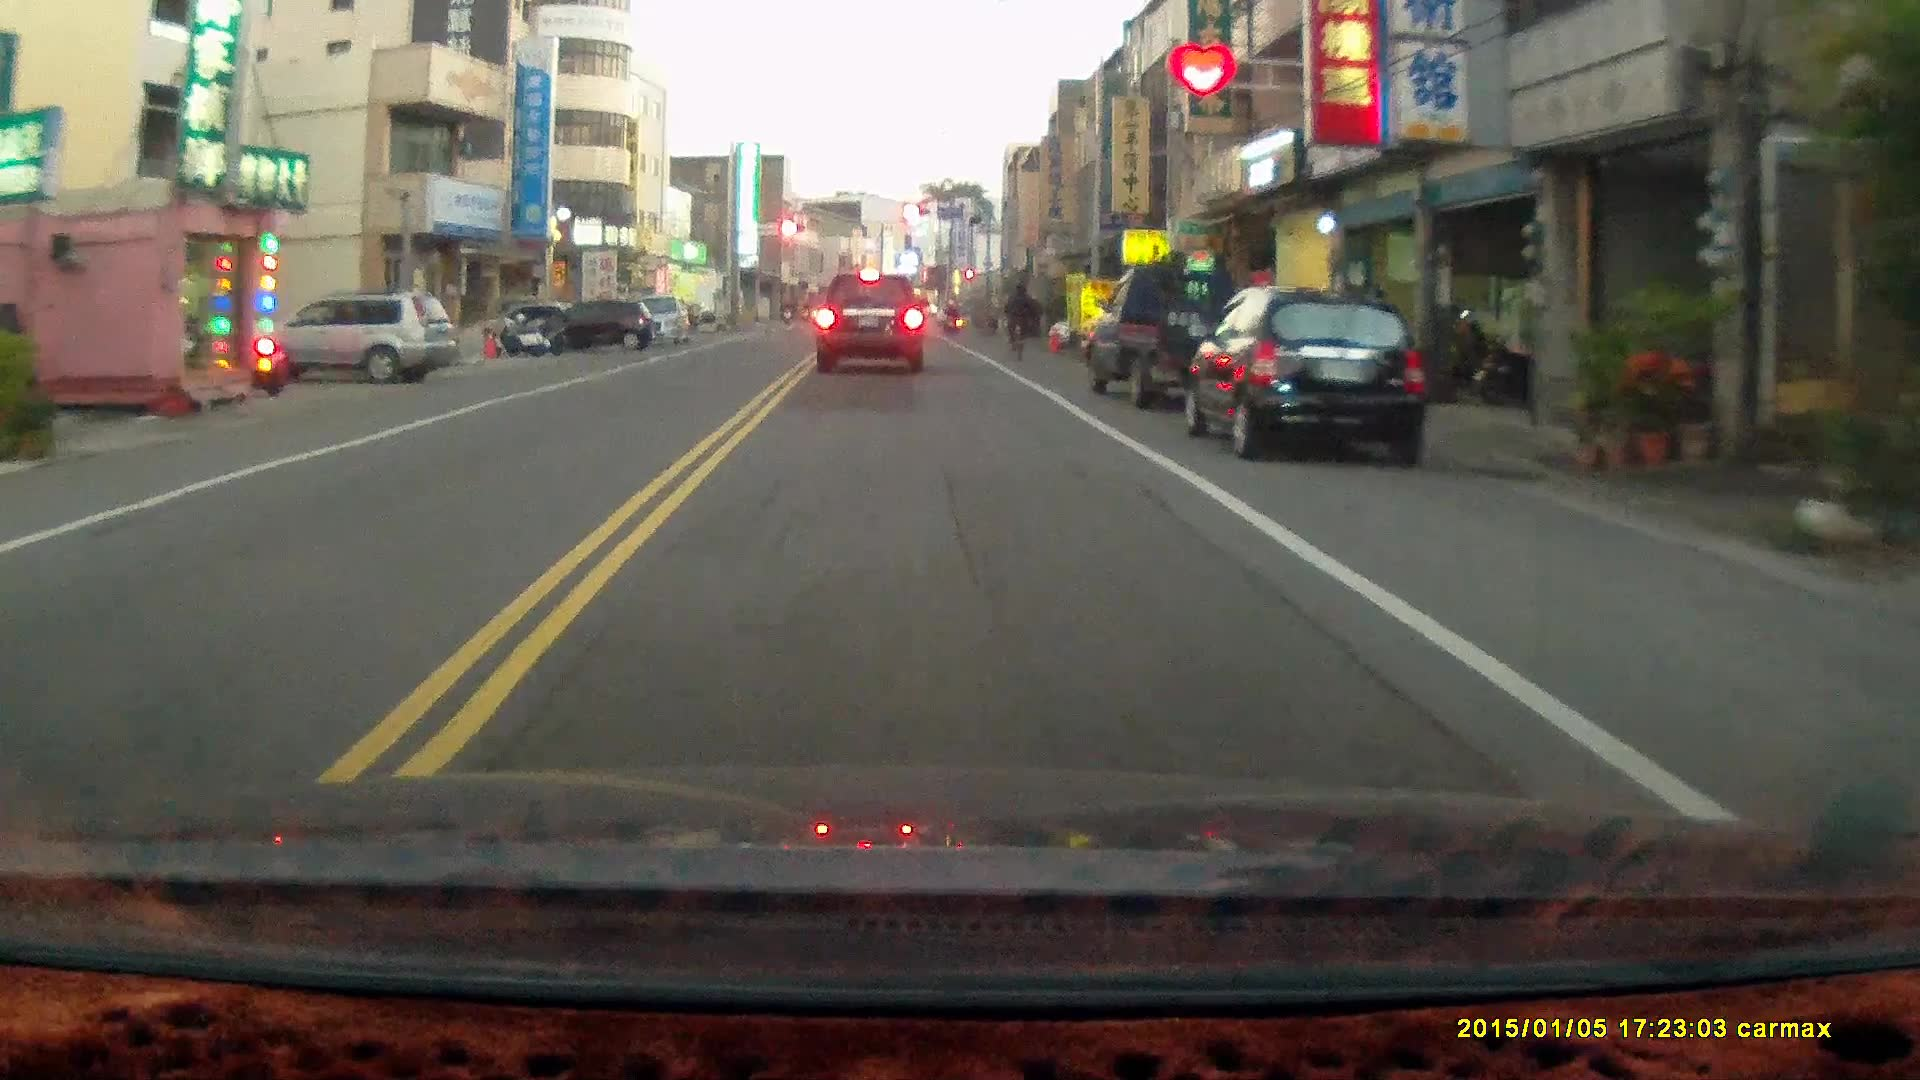rider: (1001, 280, 1036, 362)
vehicle: (1184, 288, 1429, 464), (1084, 259, 1278, 407), (248, 293, 460, 390), (815, 269, 928, 374), (536, 299, 656, 353)
